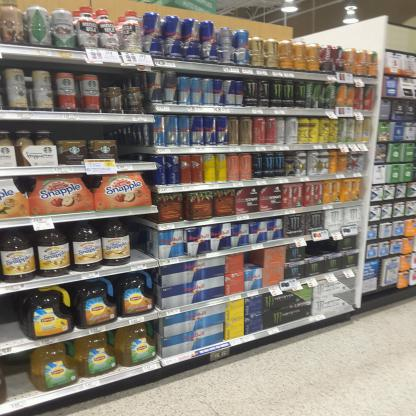Void: (132, 218, 154, 261), (3, 297, 23, 341), (115, 128, 143, 159), (5, 361, 30, 395), (60, 125, 110, 138), (247, 251, 259, 268)
